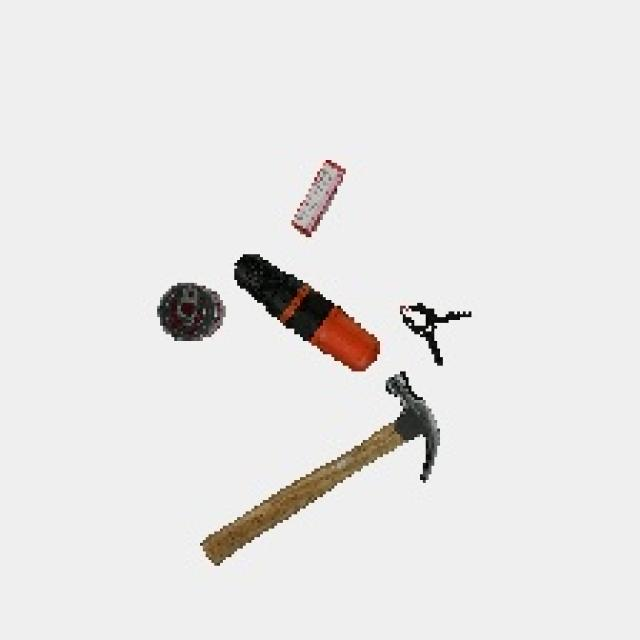GelatinBox: (292, 156, 349, 242)
Hammer: (196, 374, 448, 590)
MediumClamp: (396, 295, 481, 369)
PowerDrill: (232, 253, 384, 373)
TomatoSoupCan: (154, 278, 227, 348)
